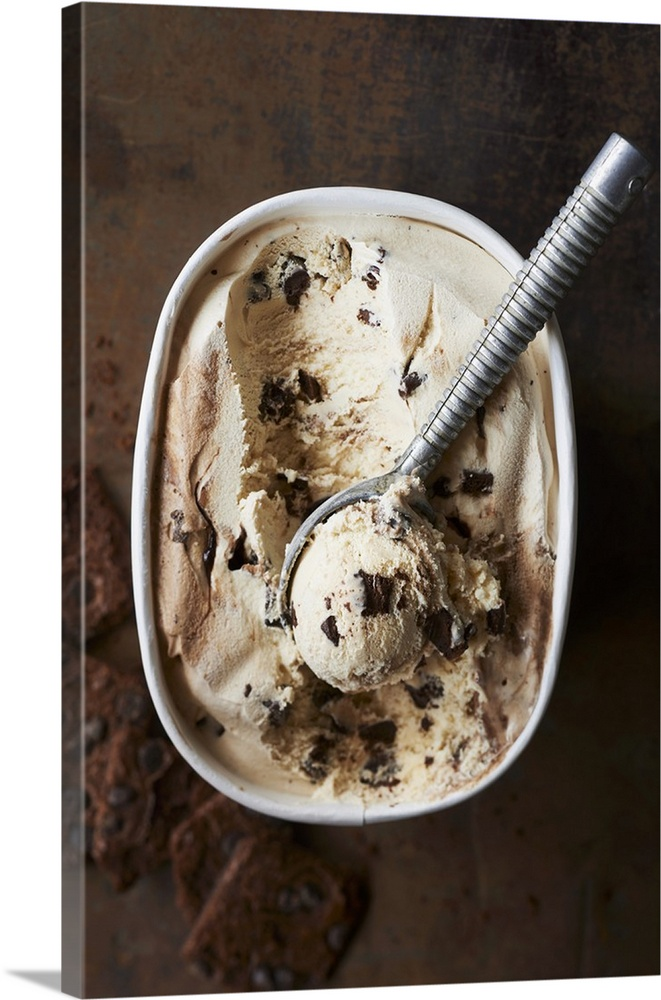ice-cream: (304, 504, 463, 693)
